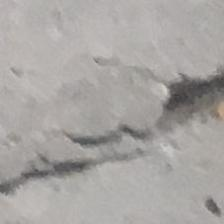Crack: (0, 74, 224, 206)
